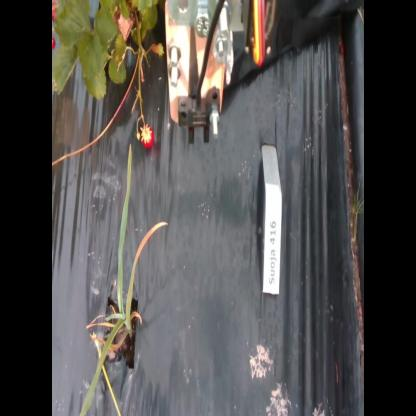ripe: (138, 126, 157, 156), (51, 35, 56, 53)
